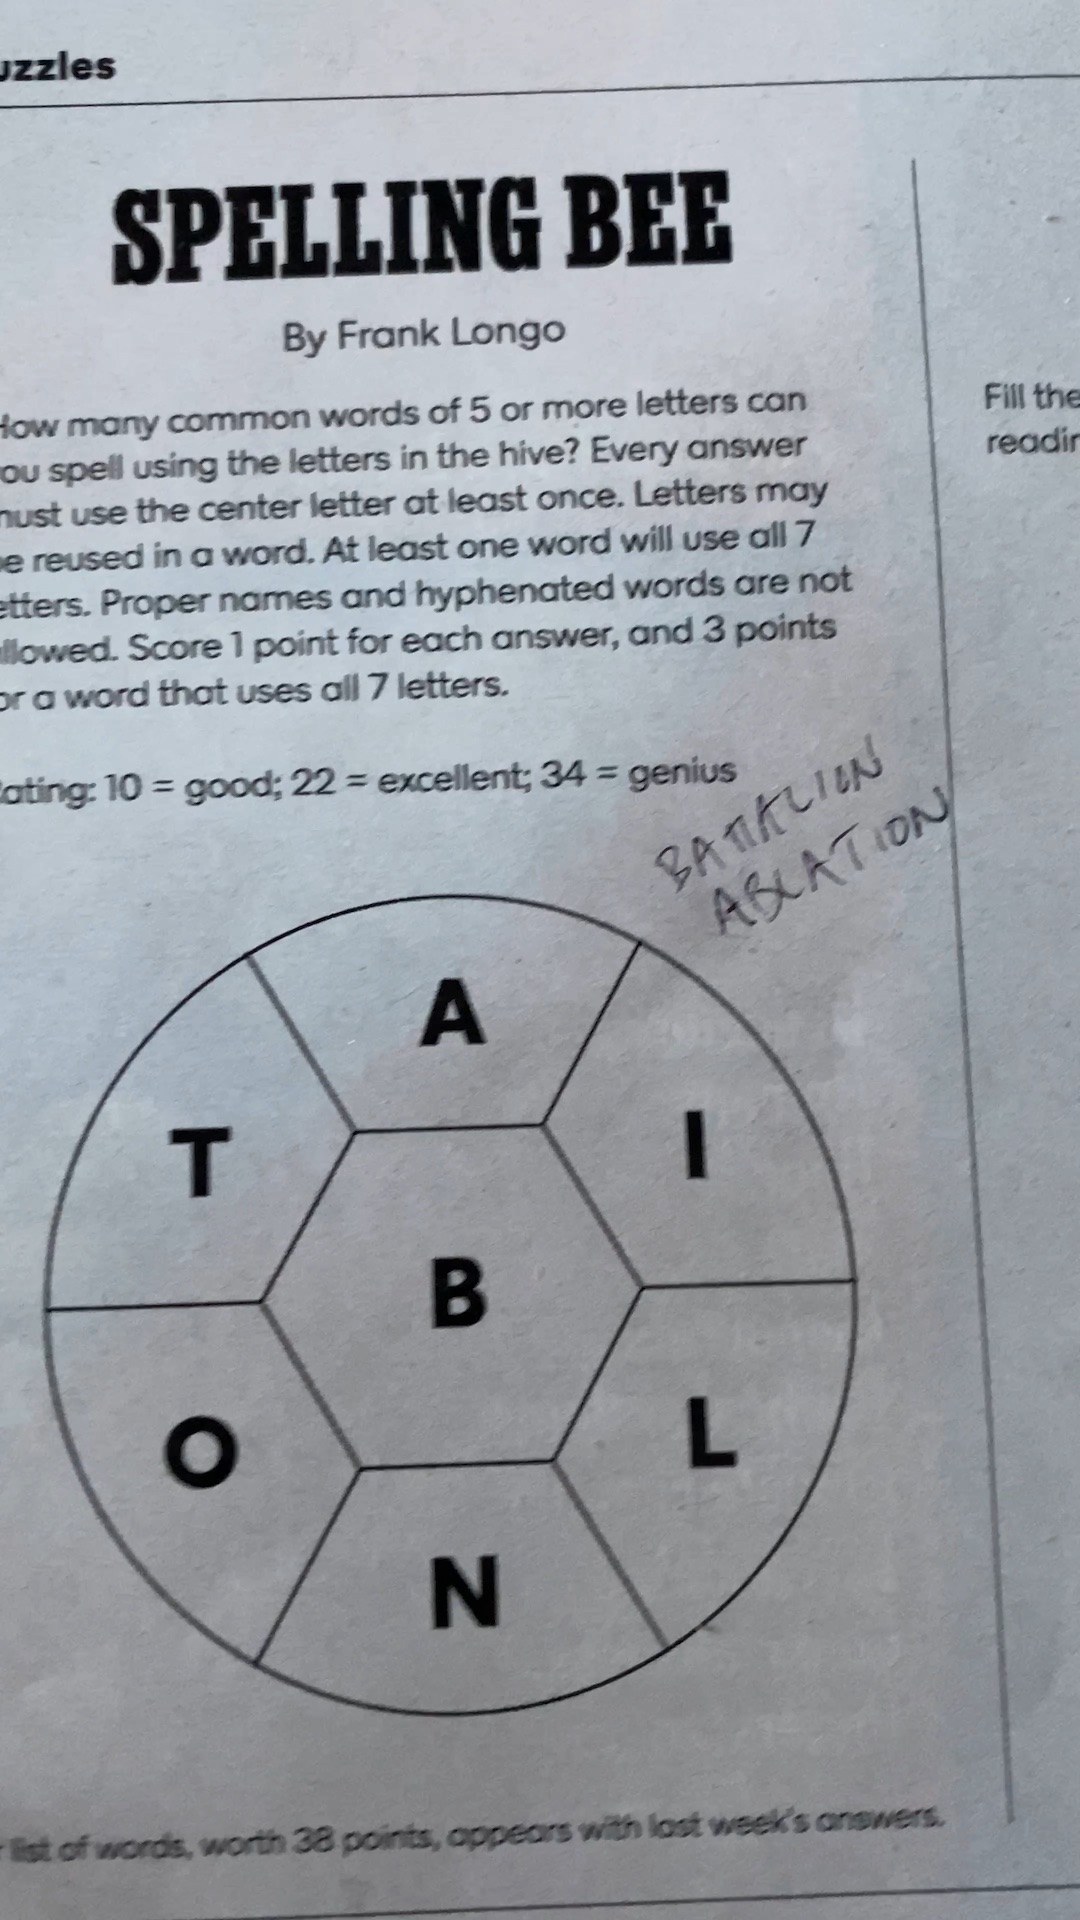Board: (26, 884, 873, 1737)
